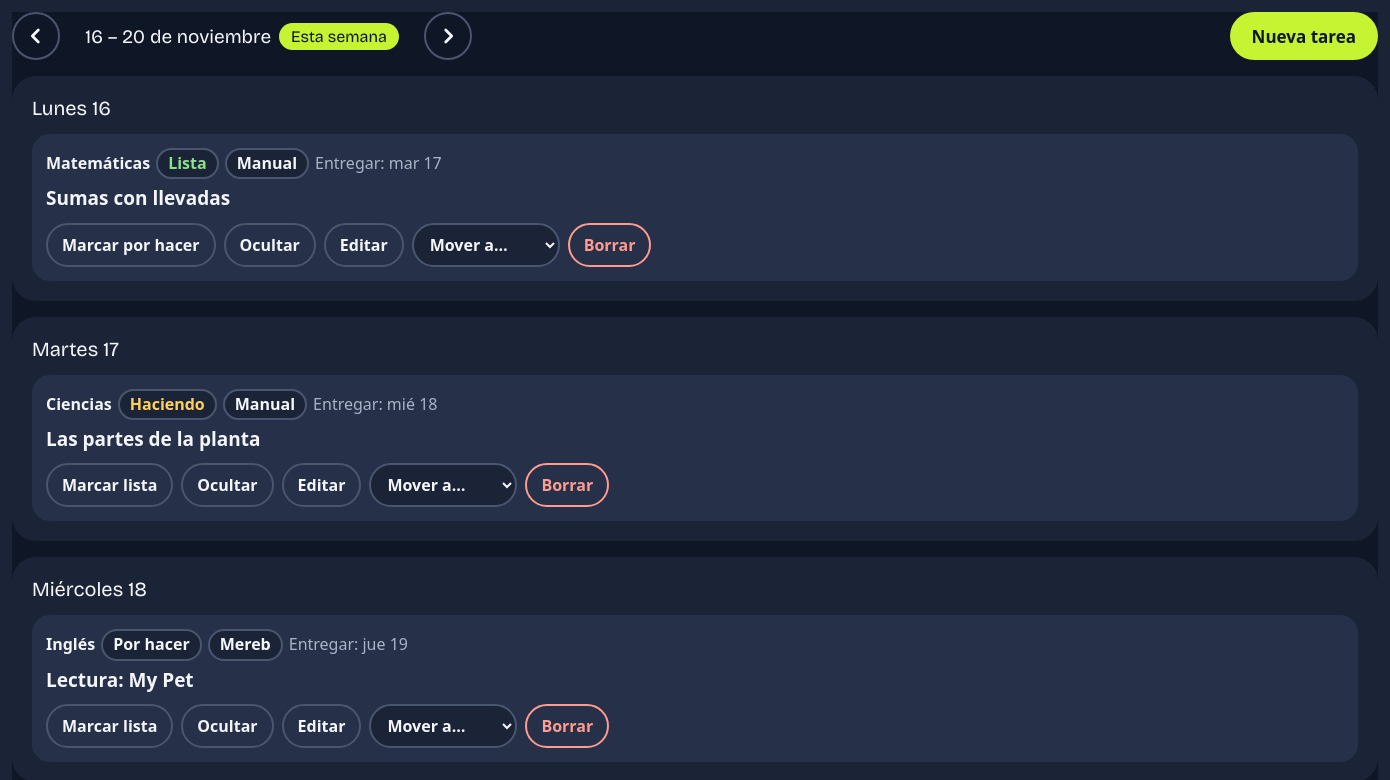
Test: TasksTab positive › deleting asks first, then removes a manual task and says so
Later steps or results of the test are not shown.
Click the button with aria-label "Borrar: Las partes de la planta" at (567, 486), box [525,464,609,508]
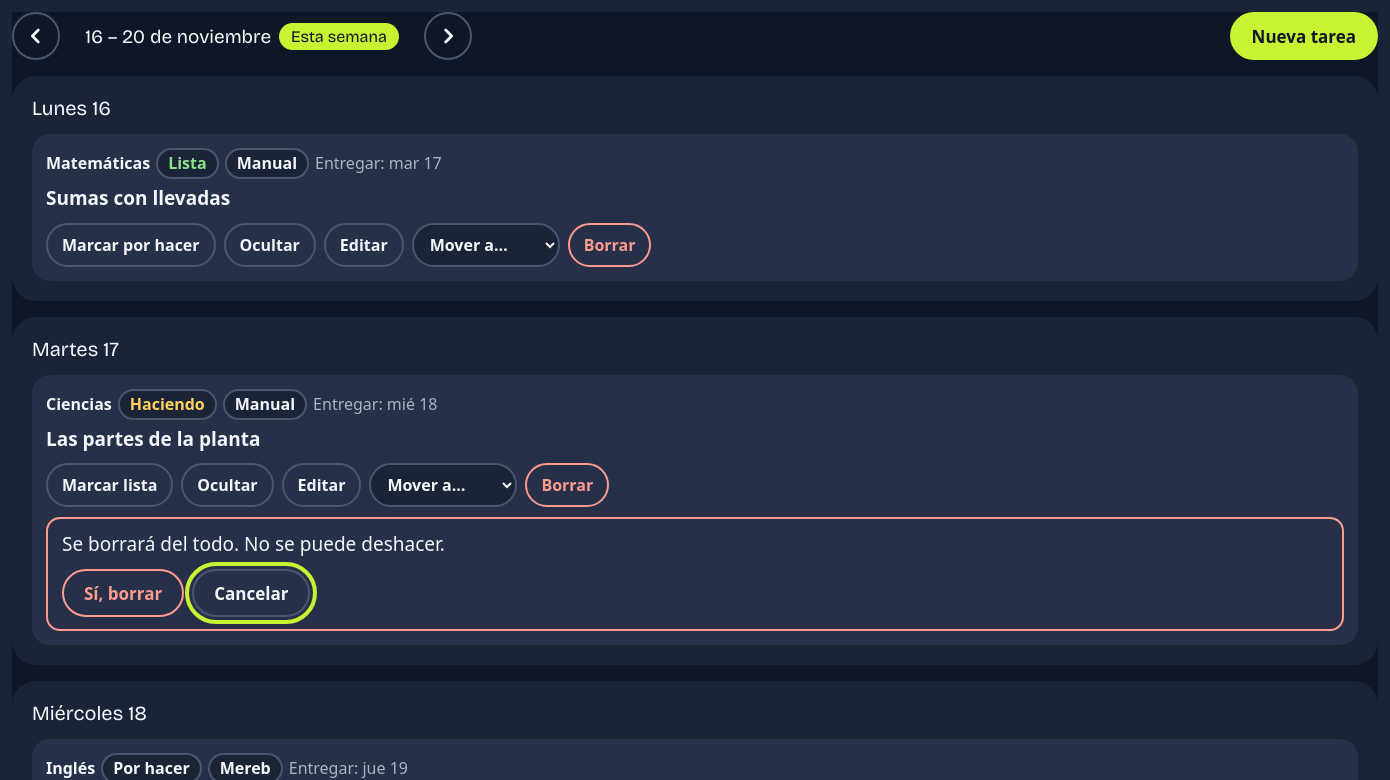
Expected: the text "Se borrará del todo. No se puede deshacer." is shown, [62,532,445,558]
